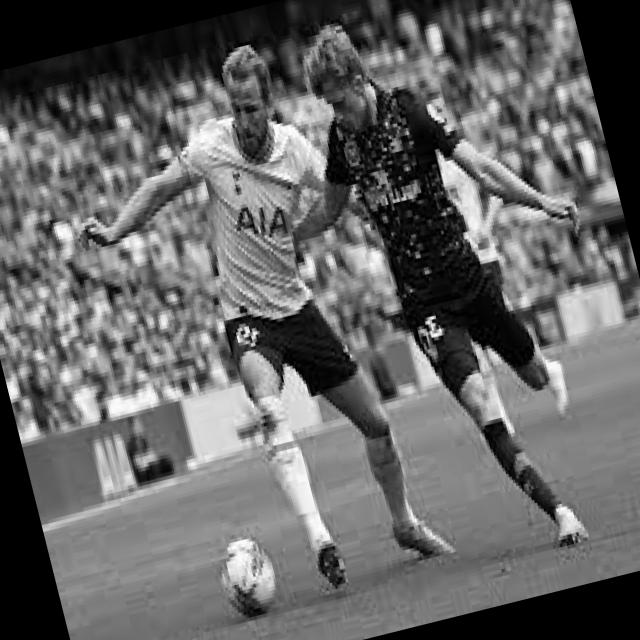football: (217, 536, 279, 622)
